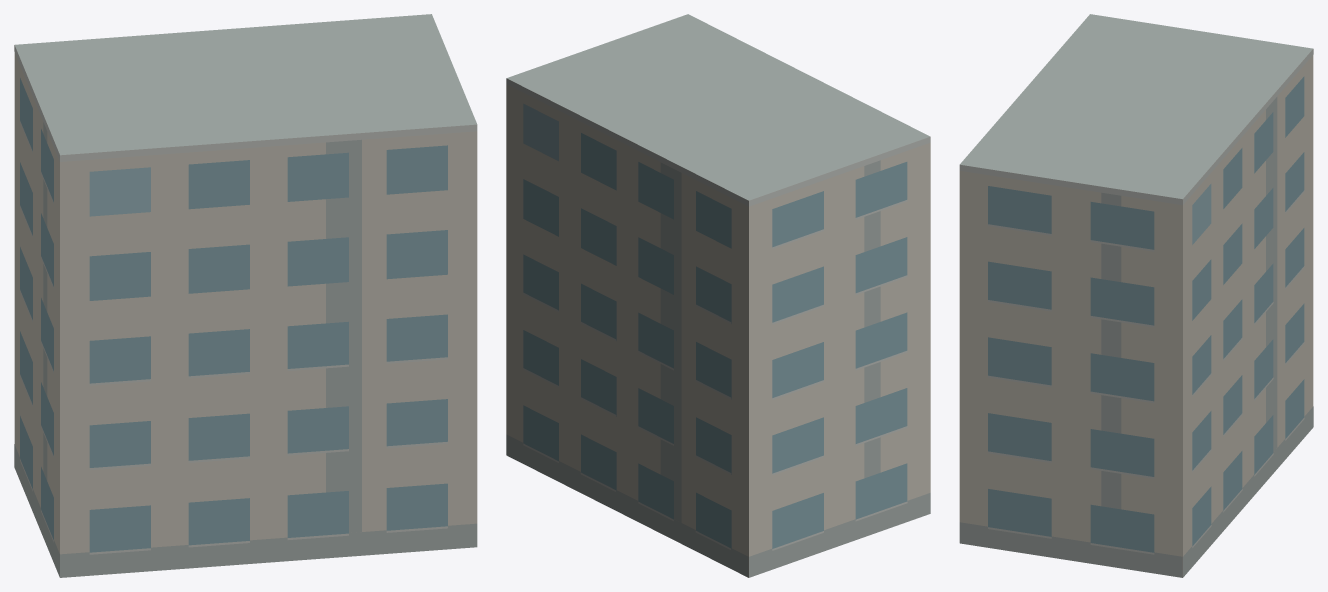
File: residential-97415c19-8201-445b-9f0b-293daf09f15d.glb
3 views of the same model, side by side, from view 1: azimuth 30°, elevation 25°; view 2: azimuth 150°, elevation 25°; view 3: azimuth 270°, elevation 25° (orthographic). The views are drawn at different scales.
Parts seen in each view (by area): view 1: residential-97415c19-8201-445b-9f0b-293daf09f15d.tmp; view 2: residential-97415c19-8201-445b-9f0b-293daf09f15d.tmp; view 3: residential-97415c19-8201-445b-9f0b-293daf09f15d.tmp.
Boxes of the visible parts, left/top/right/bottom form: residential-97415c19-8201-445b-9f0b-293daf09f15d.tmp: left=14, top=14, right=477, bottom=577; residential-97415c19-8201-445b-9f0b-293daf09f15d.tmp: left=506, top=14, right=930, bottom=577; residential-97415c19-8201-445b-9f0b-293daf09f15d.tmp: left=959, top=14, right=1313, bottom=577.
Size of the model in its own units: 16 by 15.25 by 12.92.
